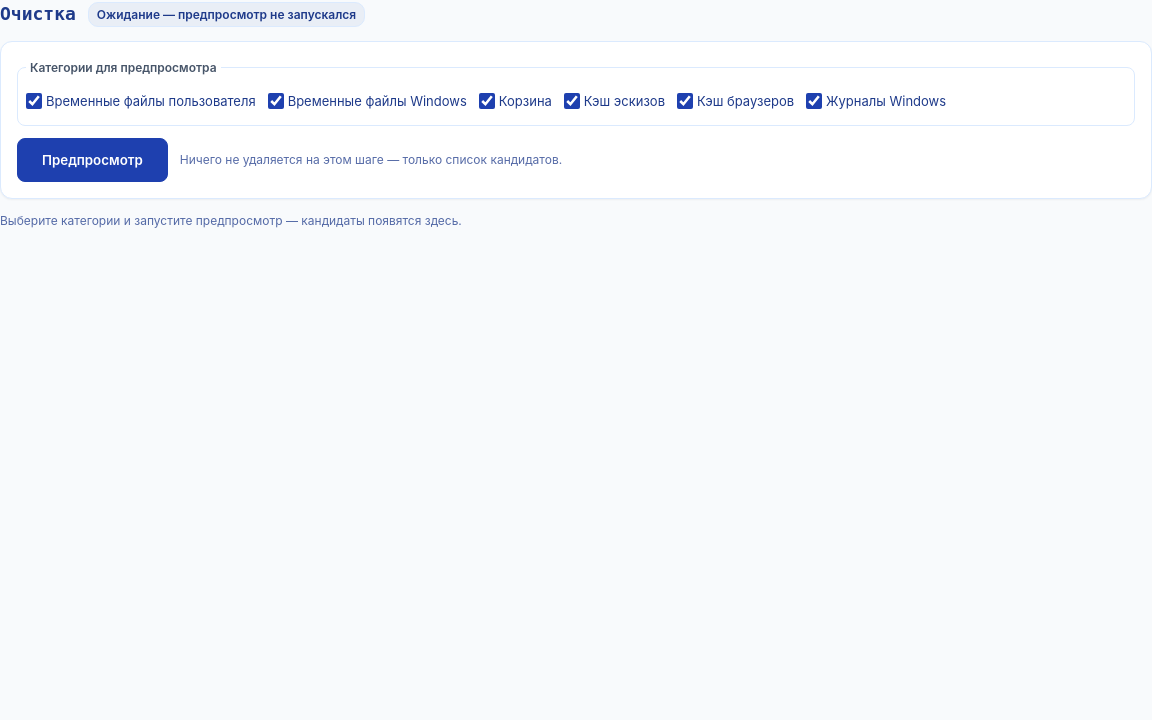
cleaner — CleanerPage (jsdom project) › shows the confirmation scope, estimate and recycle warning with focus inside
Click the button "Предпросмотр" at (92,160), box top-left (17, 138), bottom-right (168, 182)
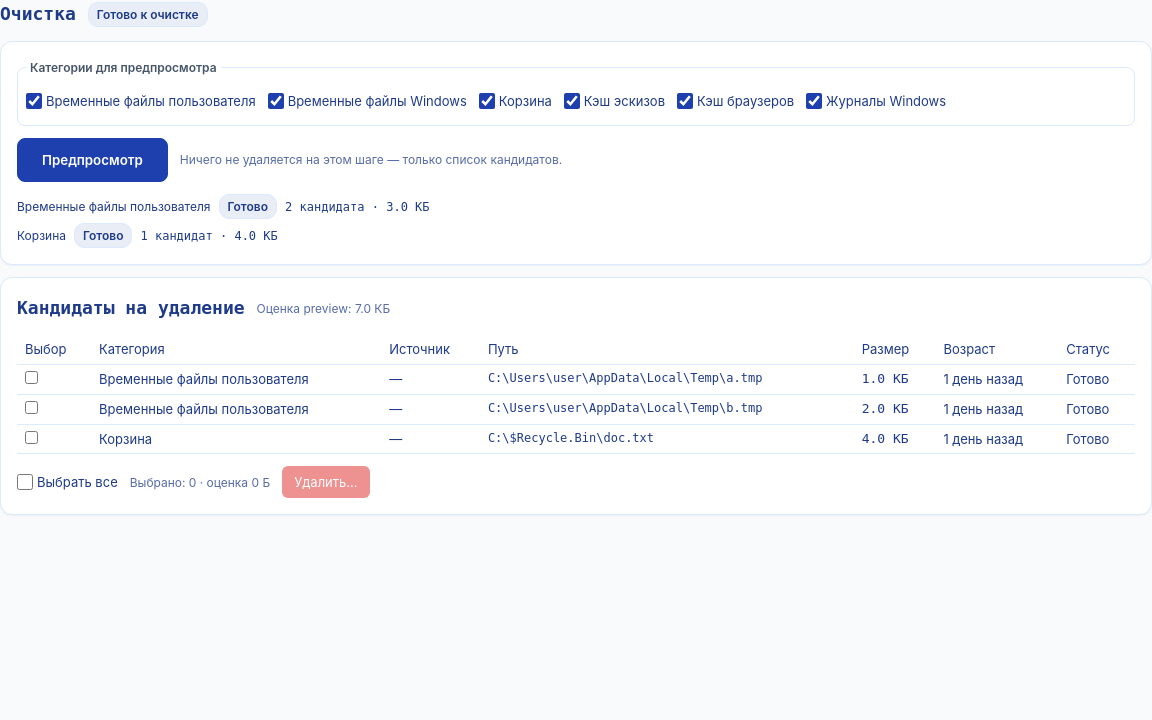
Expected: the heading "Кандидаты на удаление" is shown, top-left (17, 294), bottom-right (245, 323)
Click the checkbox named "Выбрать C:\\Users\\user\\AppData\\Local\\Temp\\a.tmp" at (32,378), box top-left (25, 371), bottom-right (38, 384)
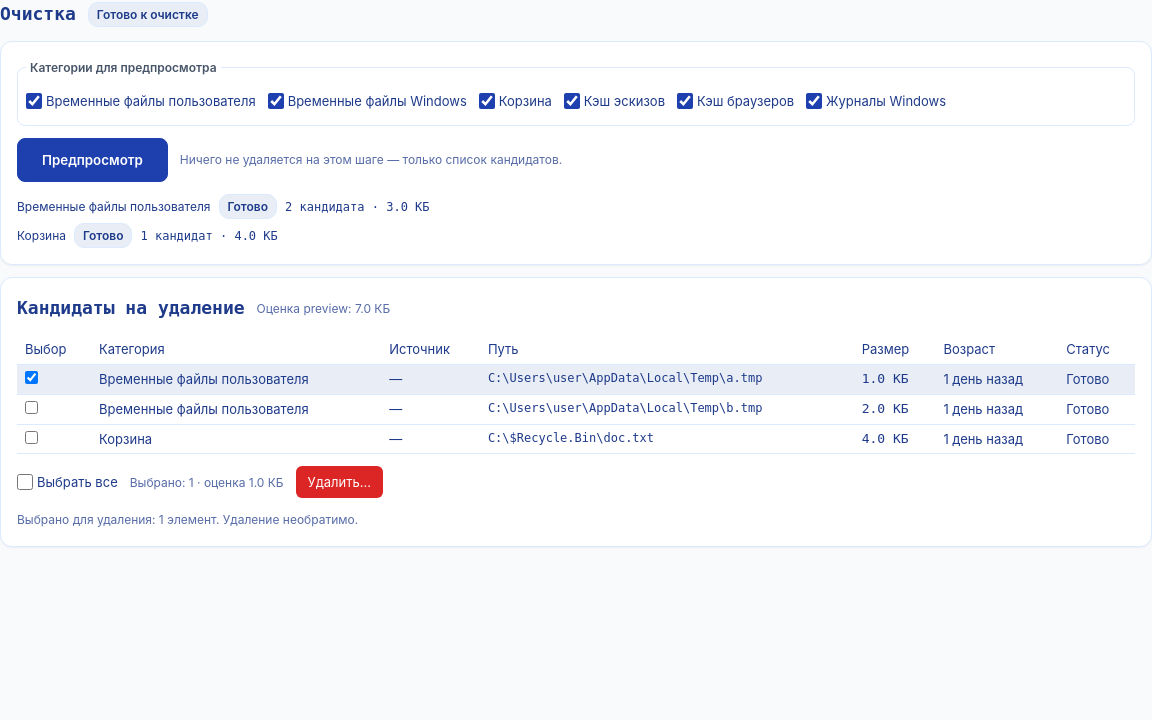
Click the checkbox named "Выбрать C:\\$Recycle.Bin\\doc.txt" at (32,437), box top-left (25, 430), bottom-right (38, 444)
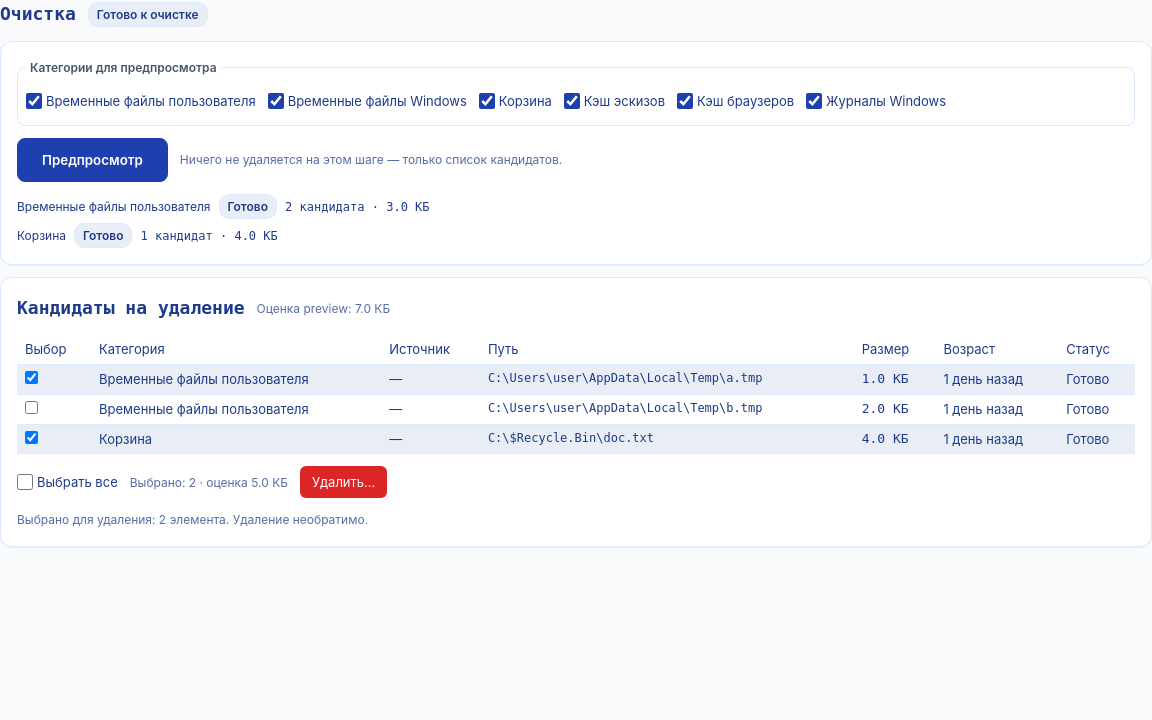
Click the button "Удалить…" at (344,482), box top-left (300, 466), bottom-right (387, 498)
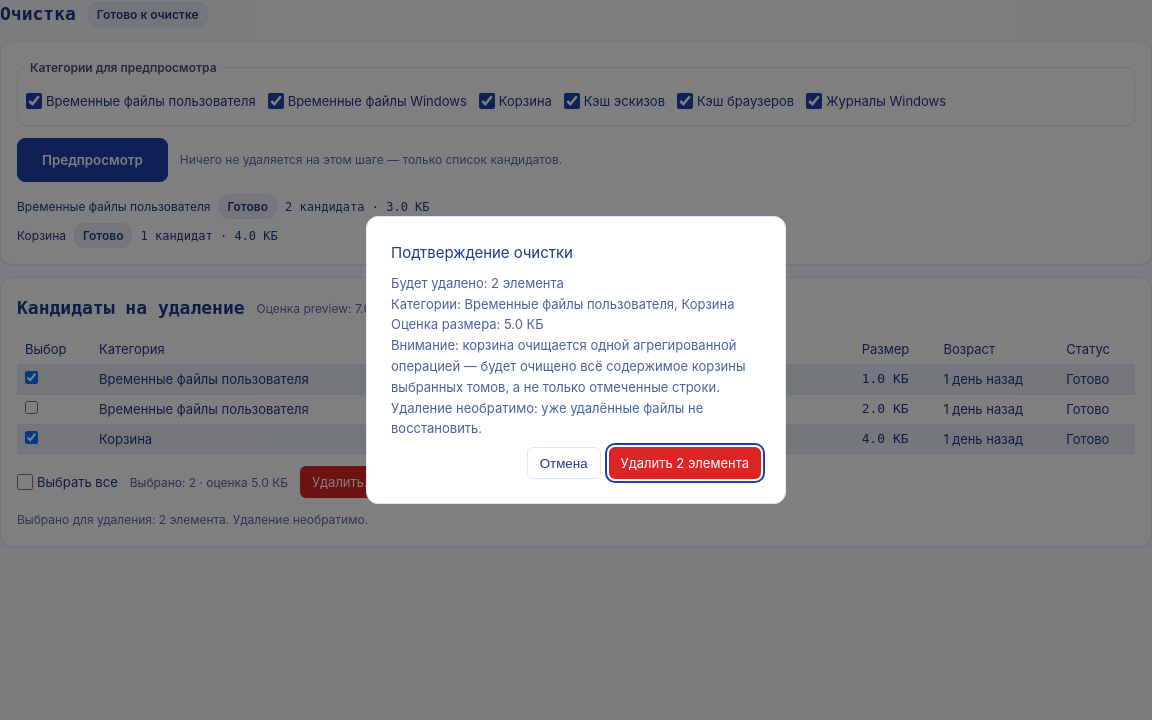
Expected: the dialog shows "Будет удалено: 2 элемента", top-left (366, 216), bottom-right (786, 504)
Expected: the dialog shows "Категории: Временные файлы пользователя, Корзина", top-left (366, 216), bottom-right (786, 504)
Expected: the dialog shows "Оценка размера: 5.0 КБ", top-left (366, 216), bottom-right (786, 504)
